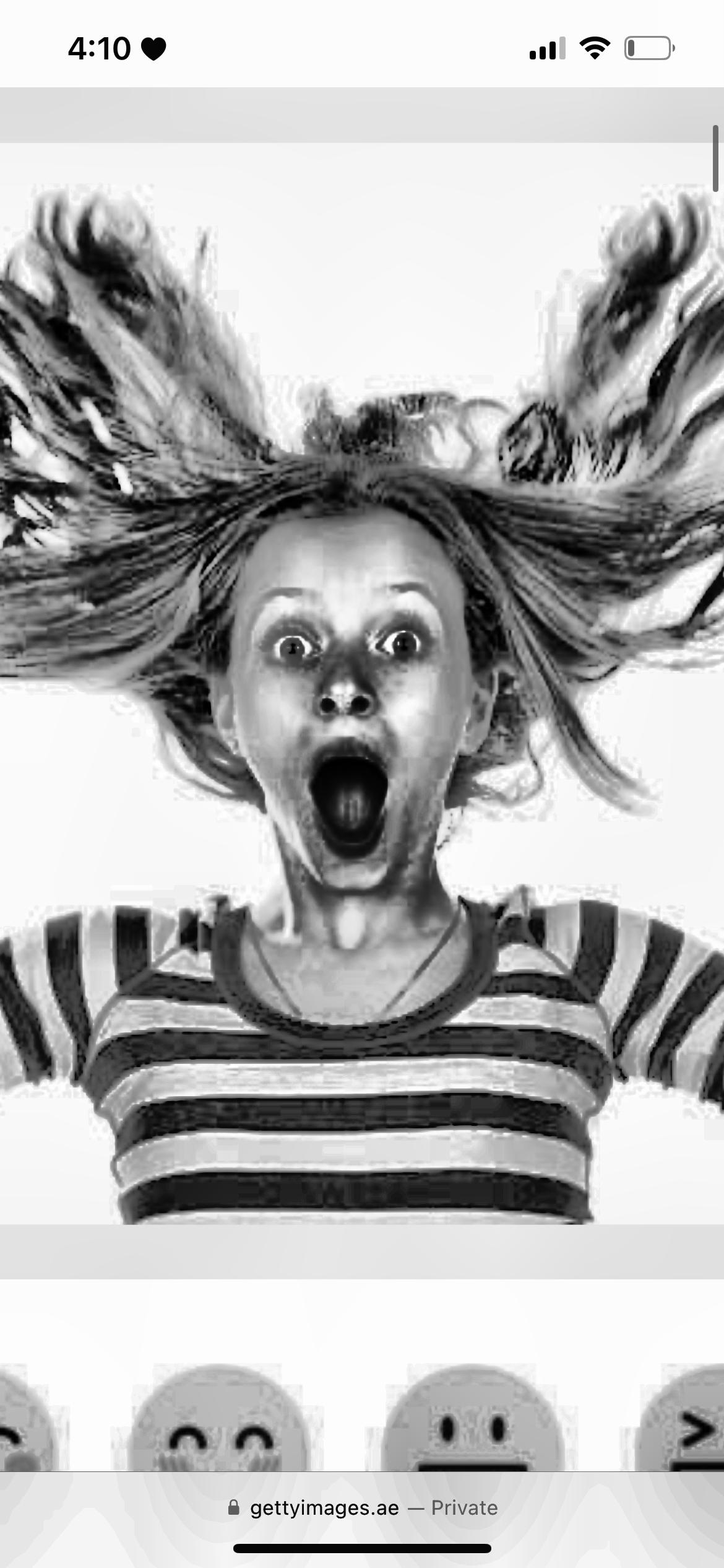surprised: (214, 496, 481, 885)
